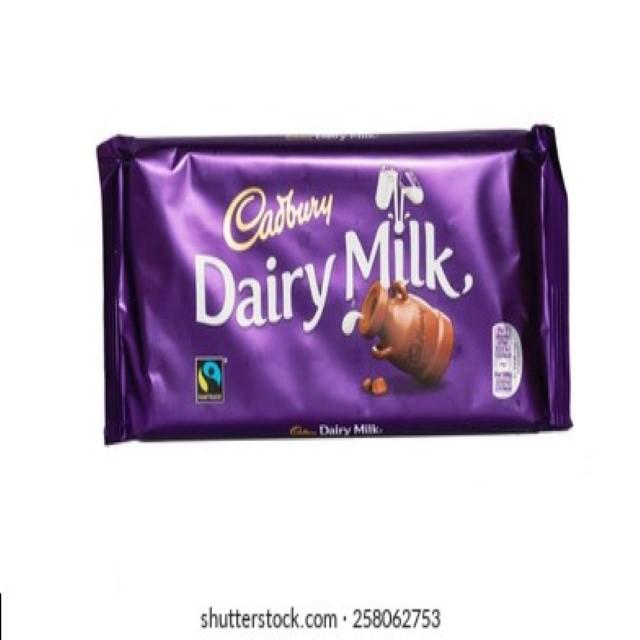cadbury_chocolate: (100, 142, 565, 436)
